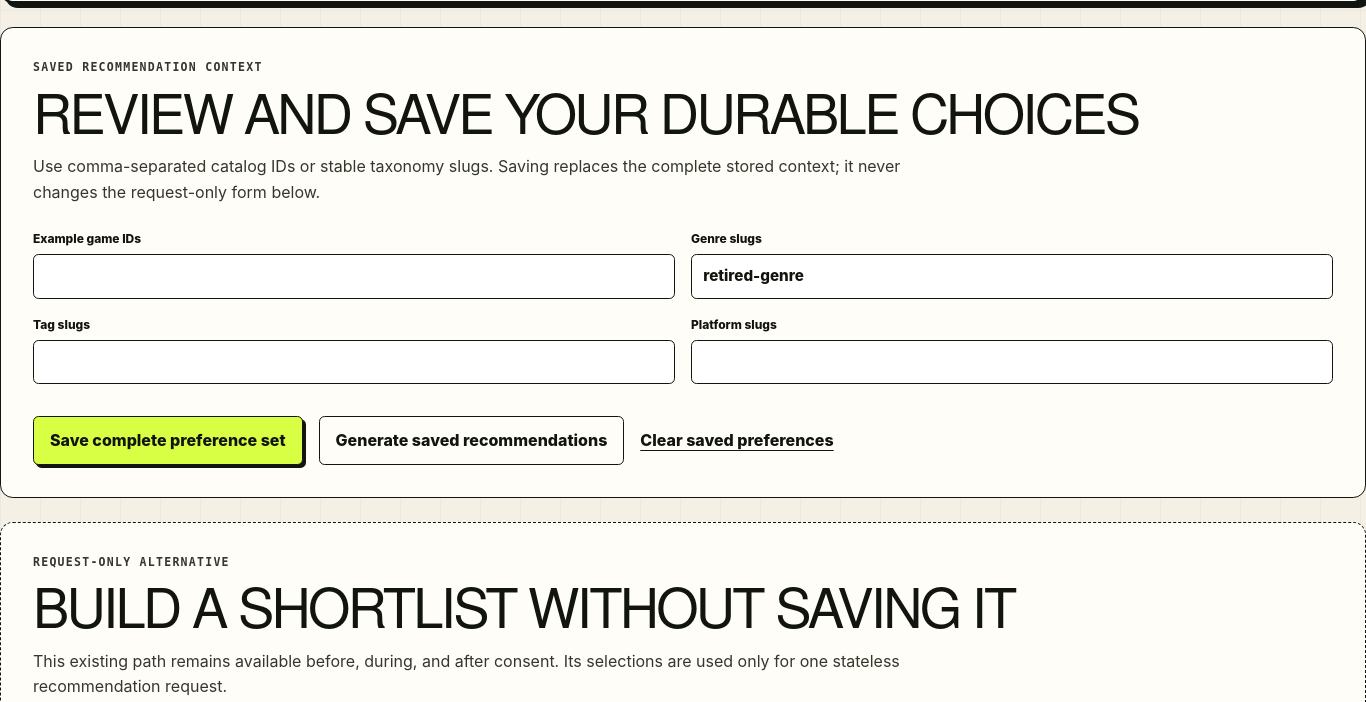
PersistentRecommendationFlow › surfaces stale preference references and keeps the editable recovery state
The image size is (1366, 702).
(page scrolled)
Click the button "Generate saved recommendations": click(471, 441) [319, 416, 624, 465]
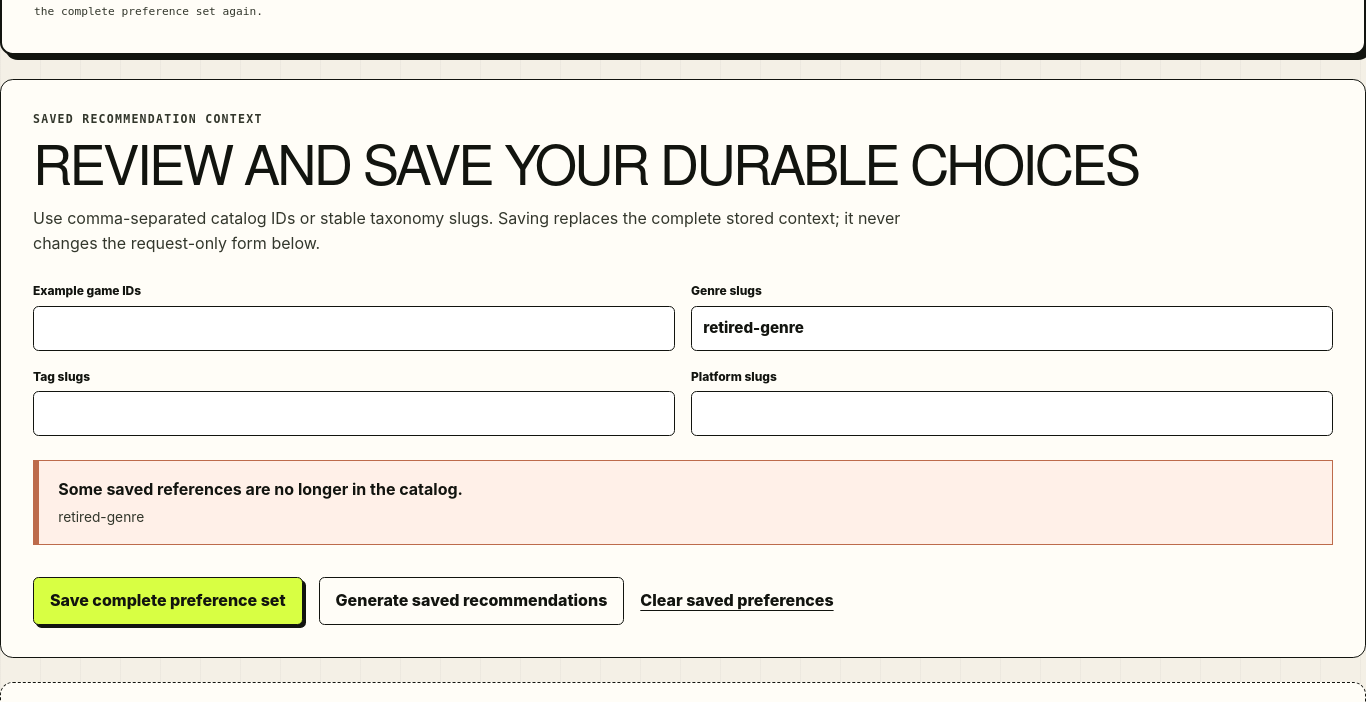
Expected: the heading "Review and save your durable choices" is shown, [33, 136, 1333, 190]
Result: the message "Some saved references are no longer in the catalog. retired-genre" is shown at [33, 460, 1333, 545]
